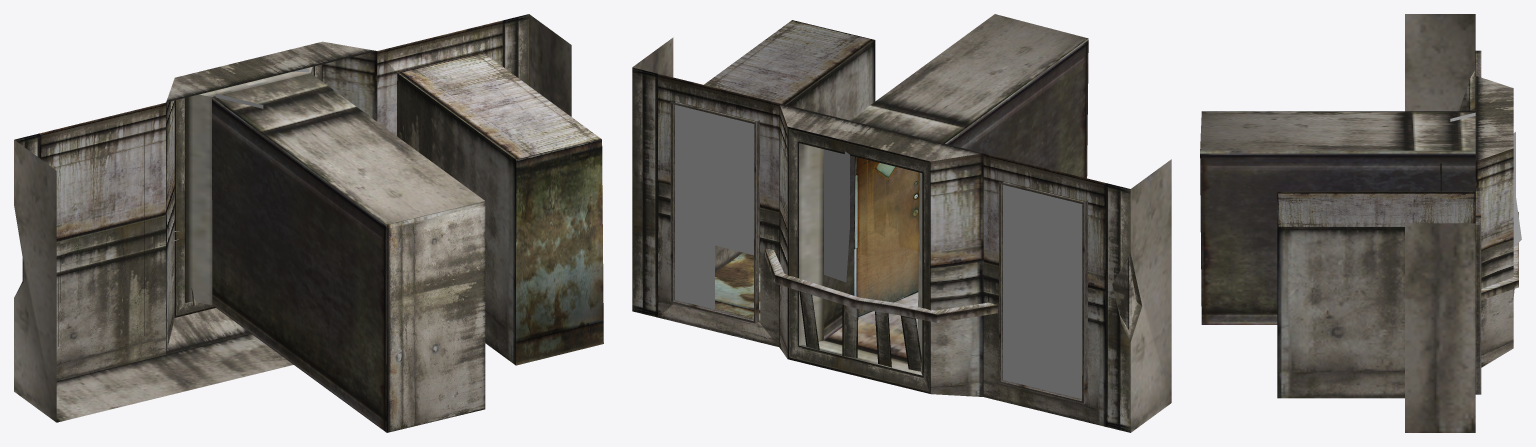
Rendered from Store_front_10_B.fbx.
3 renders of one model, left to right at view 1: azimuth 30°, elevation 25°; view 2: azimuth 150°, elevation 25°; view 3: azimuth 270°, elevation 25°, orthographic. The views are drawn at different scales.
Visible parts, largest first — view 1: Store_front_10_B; view 2: Store_front_10_B; view 3: Store_front_10_B.
Part boxes in pixels (x1,y1,x2,y2): Store_front_10_B: (14, 14, 603, 432); Store_front_10_B: (632, 14, 1171, 432); Store_front_10_B: (1200, 14, 1521, 432).
Bounding box in the file's own units: 700 × 328 × 455.
